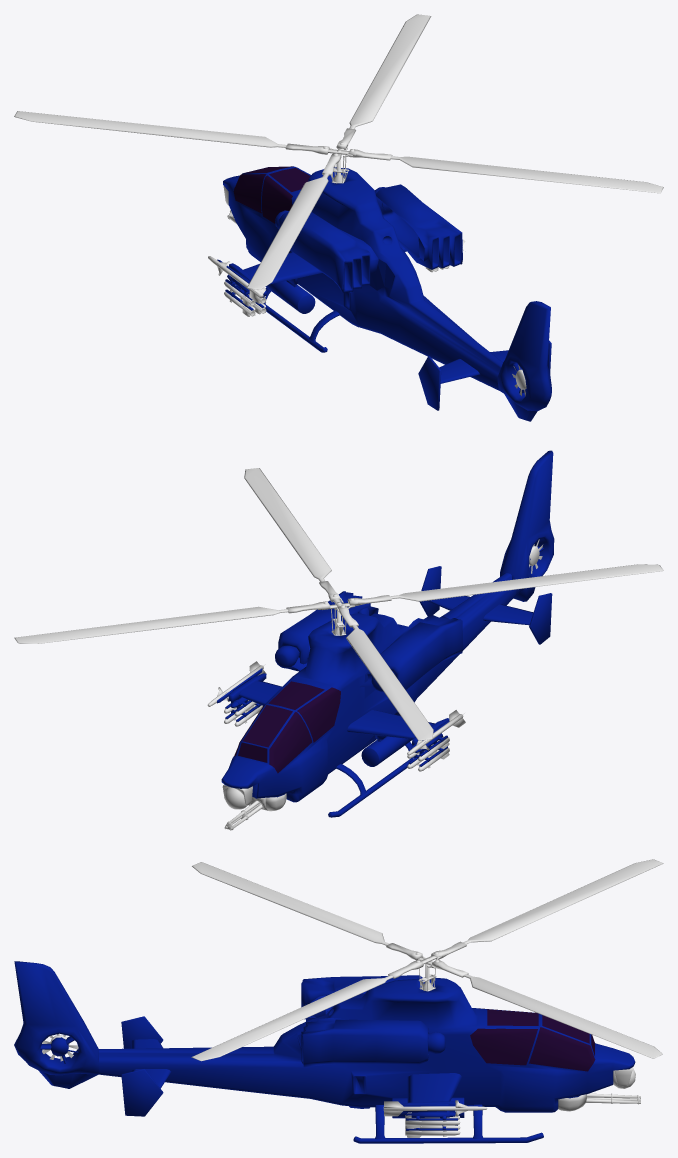
Rendered from ExoWolf.glb.
3 renders of one model, top to bottom at view 1: azimuth 30°, elevation 25°; view 2: azimuth 150°, elevation 25°; view 3: azimuth 270°, elevation 25°, orthographic. The views are drawn at different scales.
Visible parts, largest first — view 1: Chassis, Rotor, Canopy; view 2: Chassis, Rotor, Canopy; view 3: Chassis, Rotor, Canopy, Right AA Missile, Barrels.
Part boxes in pixels (bbox=[...]): Chassis: bbox=[217, 166, 551, 421]; Rotor: bbox=[14, 14, 663, 289]; Canopy: bbox=[233, 166, 310, 223]; Chassis: bbox=[217, 450, 554, 817]; Rotor: bbox=[14, 468, 663, 740]; Canopy: bbox=[234, 681, 340, 773]; Chassis: bbox=[14, 961, 635, 1143]; Rotor: bbox=[191, 859, 663, 1061]; Canopy: bbox=[470, 1008, 595, 1071]; Right AA Missile: bbox=[383, 1100, 487, 1116]; Barrels: bbox=[586, 1093, 640, 1104].
Bounding box in the file's own units: 13.01 × 4.94 × 17.93.
